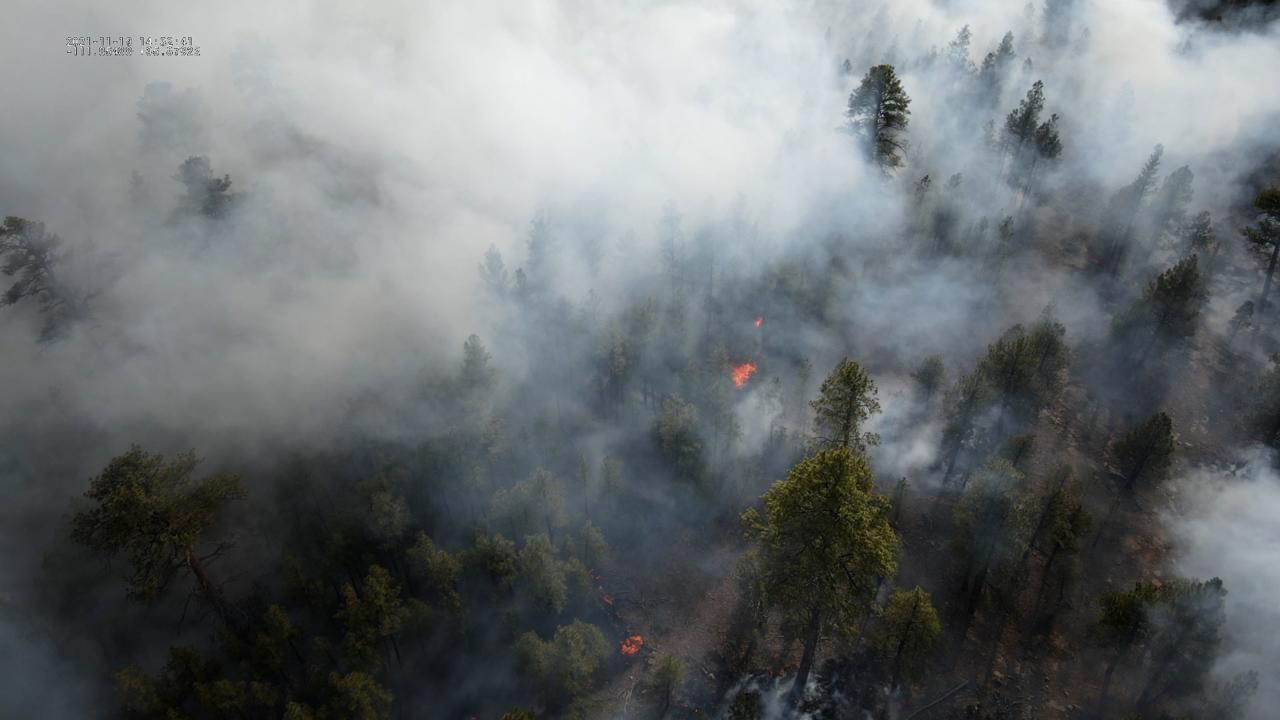fire: (726, 359, 758, 391), (617, 634, 644, 658), (600, 593, 614, 607), (753, 319, 763, 330)
smoke: (0, 0, 1280, 720)
